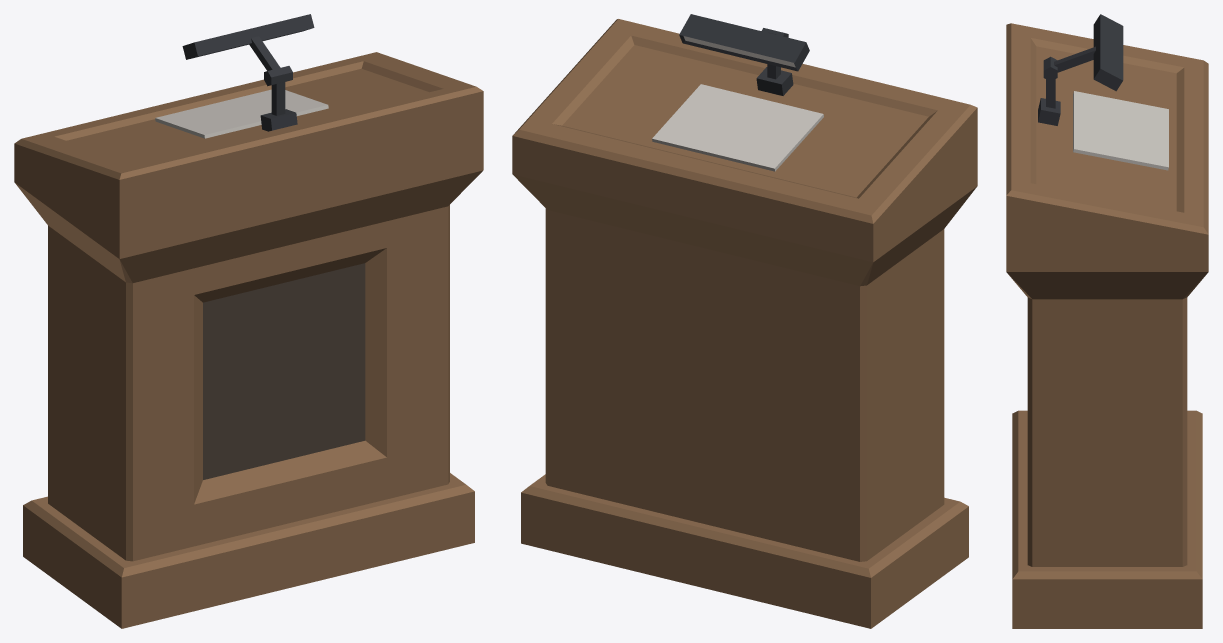
File: lecturer-s-podium-e77fe6.glb
3 renders of one model, left to right at view 1: azimuth 30°, elevation 25°; view 2: azimuth 150°, elevation 25°; view 3: azimuth 270°, elevation 25°, orthographic. The views are drawn at different scales.
Parts seen in each view (by area): view 1: object 1, object 3, lamp-arm; view 2: object 1, object 3, lamp-arm; view 3: object 1, object 3, lamp-arm.
Part boxes in pixels (x1,y1,x2,y2): object 1: (14, 52, 483, 628); object 3: (155, 89, 328, 138); lamp-arm: (182, 14, 314, 70); object 1: (512, 19, 977, 628); object 3: (652, 84, 823, 171); lamp-arm: (679, 14, 809, 71); object 1: (1006, 23, 1208, 628); object 3: (1073, 91, 1168, 170); lamp-arm: (1054, 14, 1123, 91).
Size of the model in its own units: 1 by 1.38 by 0.5.
